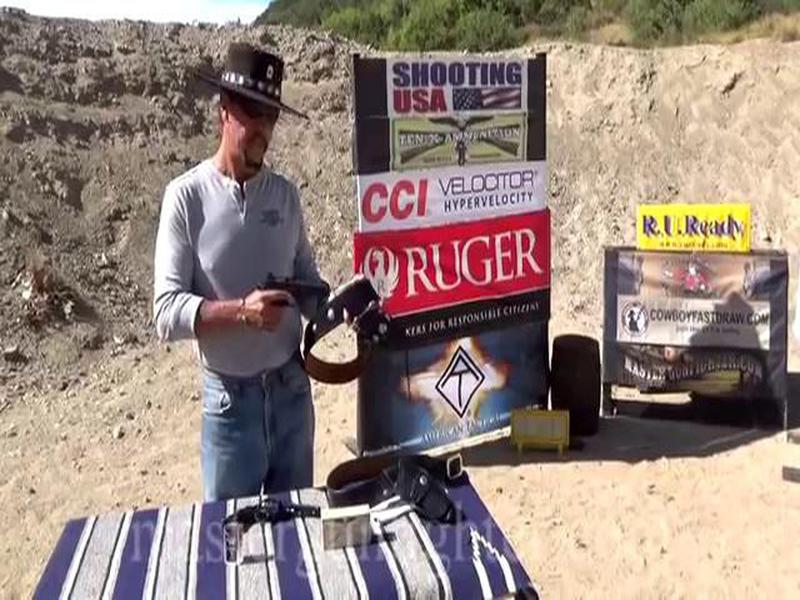Pistola: (247, 264, 338, 344)
